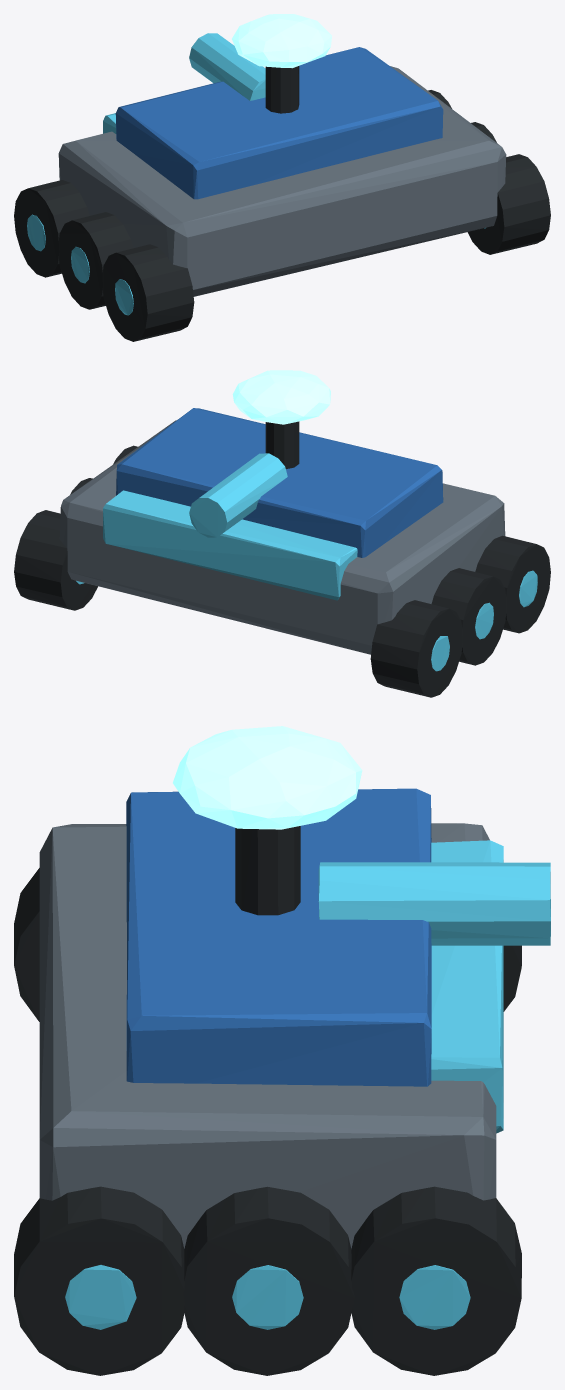
The model's file is SM_Alliance_AL_KestrelScout_LOD2.fbx.
The picture shows the model from 3 angles, top to bottom: view 1: azimuth 30°, elevation 25°; view 2: azimuth 150°, elevation 25°; view 3: azimuth 270°, elevation 25°; orthographic projection. The views are drawn at different scales.
Parts seen in each view (by area): view 1: LOD02_SM_Alliance_AL_KestrelScout; view 2: LOD02_SM_Alliance_AL_KestrelScout; view 3: LOD02_SM_Alliance_AL_KestrelScout.
Part boxes in pixels (<box>): LOD02_SM_Alliance_AL_KestrelScout: <box>14,14,550,341</box>; LOD02_SM_Alliance_AL_KestrelScout: <box>14,370,550,697</box>; LOD02_SM_Alliance_AL_KestrelScout: <box>14,726,550,1375</box>.
Bounding box in the file's own units: 336 × 203 × 185.
